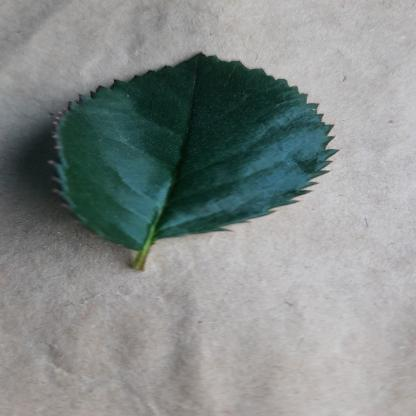normal: (48, 51, 342, 249)
